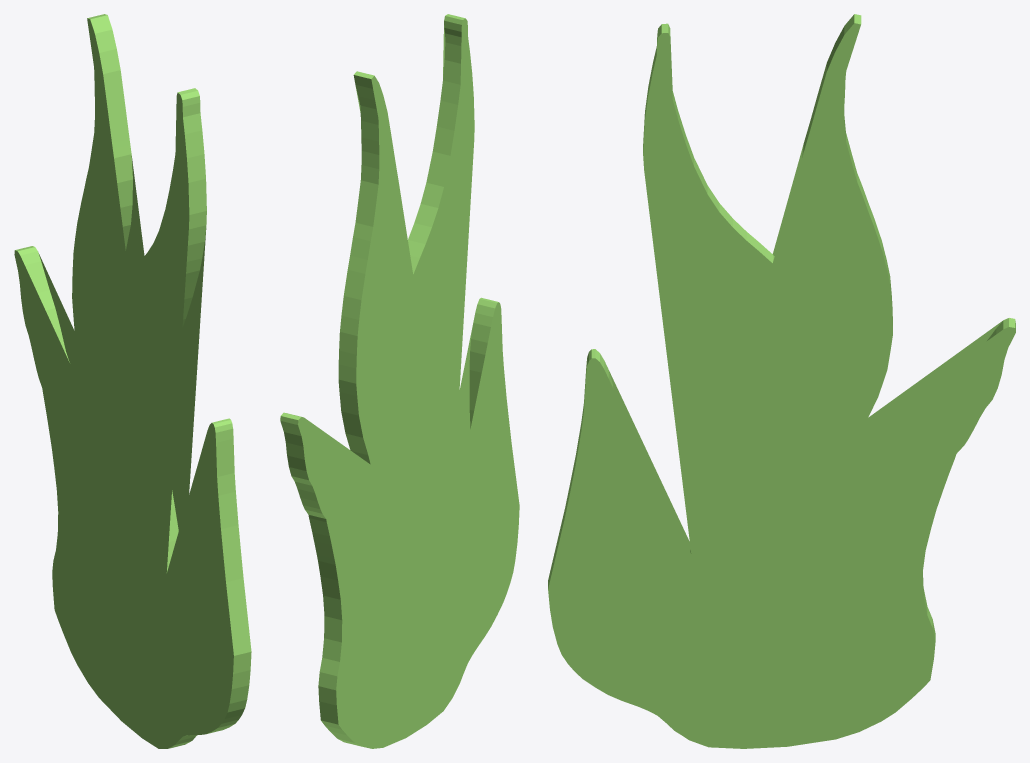
File: seaweed.fbx
The picture shows the model from 3 angles, left to right: view 1: azimuth 30°, elevation 25°; view 2: azimuth 150°, elevation 25°; view 3: azimuth 270°, elevation 25°; orthographic projection. The views are drawn at different scales.
Parts seen in each view (by area): view 1: Cube.007; view 2: Cube.007; view 3: Cube.007.
Boxes of the visible parts, x1=… form: Cube.007: x1=14, y1=14, x2=251, y2=748; Cube.007: x1=280, y1=14, x2=519, y2=748; Cube.007: x1=548, y1=14, x2=1015, y2=748.
Bounding box in the file's own units: 9.81 × 363 × 212.
